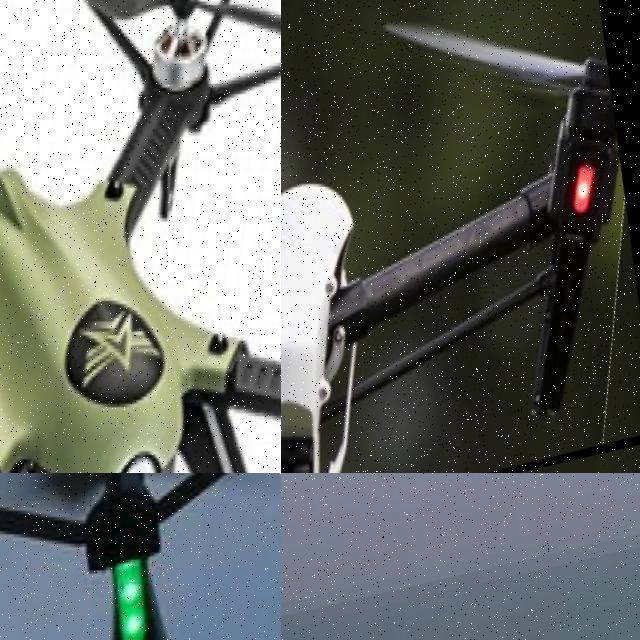drone: (281, 0, 640, 473), (0, 0, 281, 473), (0, 473, 281, 640)
